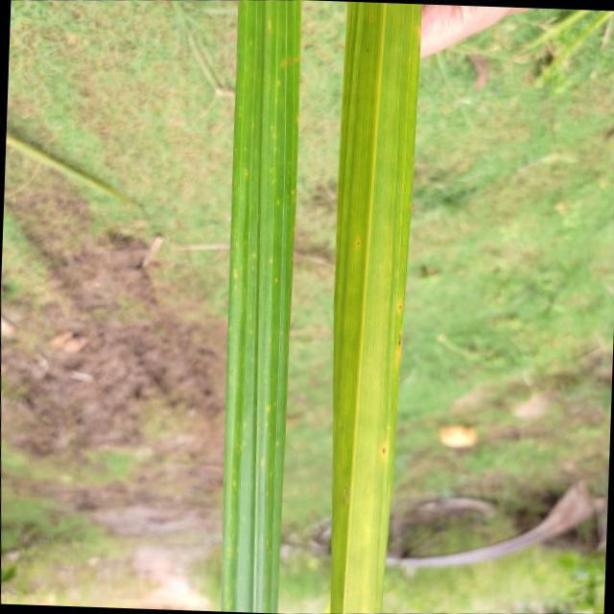nitrogen: (216, 0, 300, 614), (336, 0, 419, 614)
